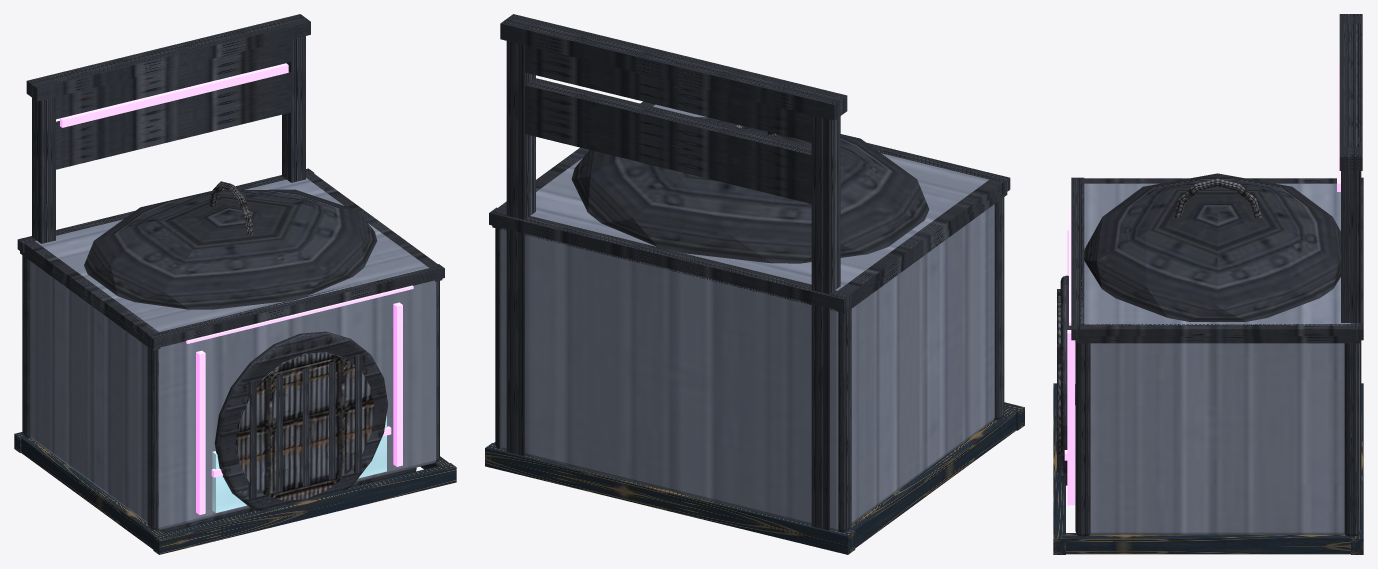
The model's file is fun_jukebox.glb.
3 renders of one model, left to right at view 1: azimuth 30°, elevation 25°; view 2: azimuth 150°, elevation 25°; view 3: azimuth 270°, elevation 25°, orthographic. The views are drawn at different scales.
Parts seen in each view (by area): view 1: body, sight_shell, dome, grilldisc, grillring, shelltoe0, shellrim0, shelltoes0, sightglow, post00, shellrims0, neon0 (+15 smaller); view 2: body, sight_shell, dome, shelltoe2, shellrim2, shelltoes0, shellrims0, post02, post00, cap, shellrim0, post22 (+1 smaller); view 3: body, dome, sight_shell, shelltoes2, shellrims2, post20, post22, shellrim0, cap, grillring, neon2, shelltoe0 (+6 smaller).
Part boxes in pixels (box(x1,y1,x2,y2)): body: box(30, 178, 436, 529); sight_shell: box(26, 14, 310, 243); dome: box(84, 189, 377, 309); grilldisc: box(235, 352, 374, 500); grillring: box(214, 331, 387, 510); shelltoe0: box(153, 463, 456, 554); shellrim0: box(148, 264, 444, 348); shelltoes0: box(20, 435, 165, 549); sightglow: box(60, 63, 288, 127); post00: box(147, 347, 158, 529); shellrims0: box(24, 241, 158, 339); neon0: box(196, 350, 205, 514); body: box(499, 104, 994, 531); sight_shell: box(500, 14, 847, 530); dome: box(571, 117, 929, 263); shelltoe2: box(485, 443, 855, 554); shellrim2: box(489, 207, 851, 311); shelltoes0: box(849, 407, 1016, 547); shellrims0: box(836, 179, 1001, 300); post02: box(838, 291, 851, 532); post00: box(994, 197, 1004, 420); cap: box(492, 191, 1007, 313); shellrim0: box(867, 143, 1010, 194); post22: box(495, 228, 499, 448); body: box(1075, 183, 1359, 534); dome: box(1084, 173, 1340, 321); sight_shell: box(1339, 14, 1362, 530); shelltoes2: box(1062, 533, 1354, 554); shellrims2: box(1080, 324, 1354, 336); post20: box(1075, 343, 1090, 536); post22: box(1344, 343, 1359, 536); shellrim0: box(1071, 177, 1084, 340); cap: box(1075, 336, 1359, 343); grillring: box(1060, 275, 1071, 485); neon2: box(1067, 330, 1074, 505); shelltoe0: box(1053, 383, 1065, 554).
Bounding box in the file's own units: 1.45 × 1.7 × 1.22.
8 materials, 6 textured.
